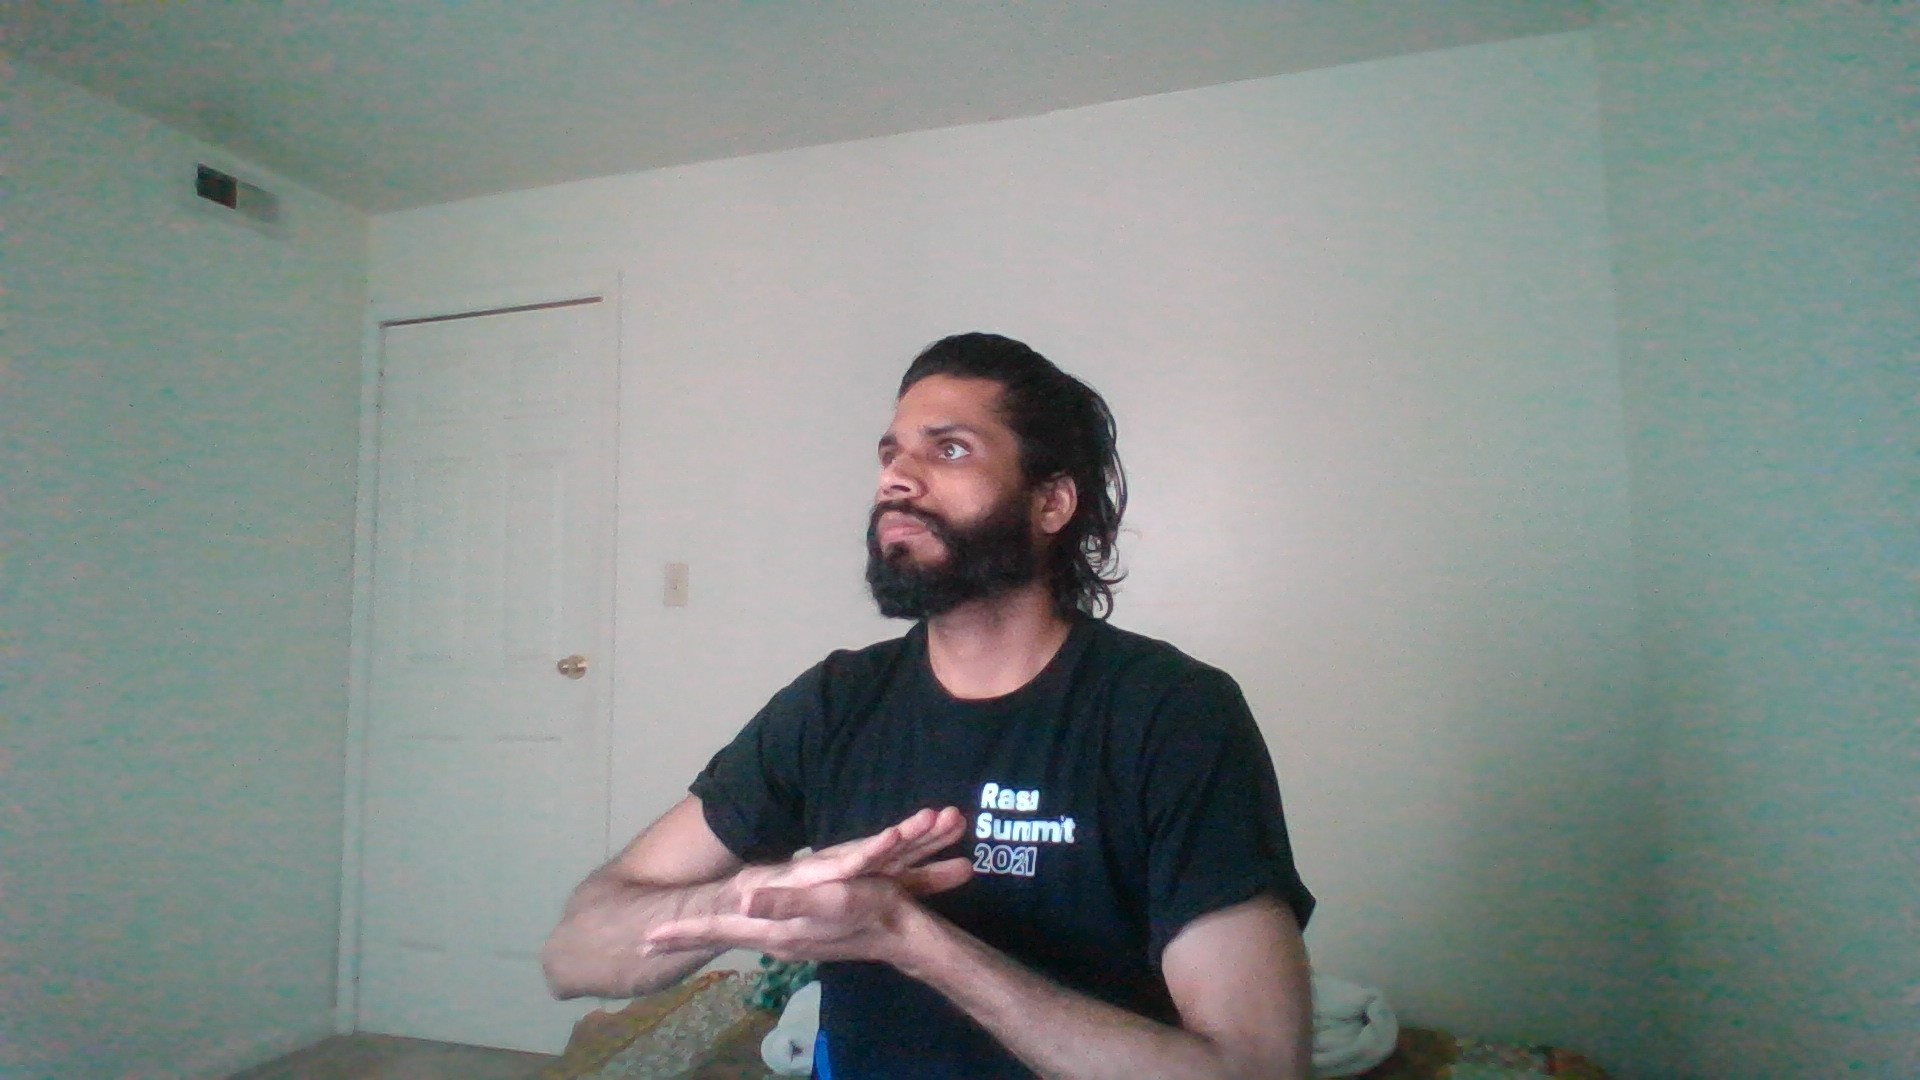Cheese: (583, 787, 1068, 1025)
